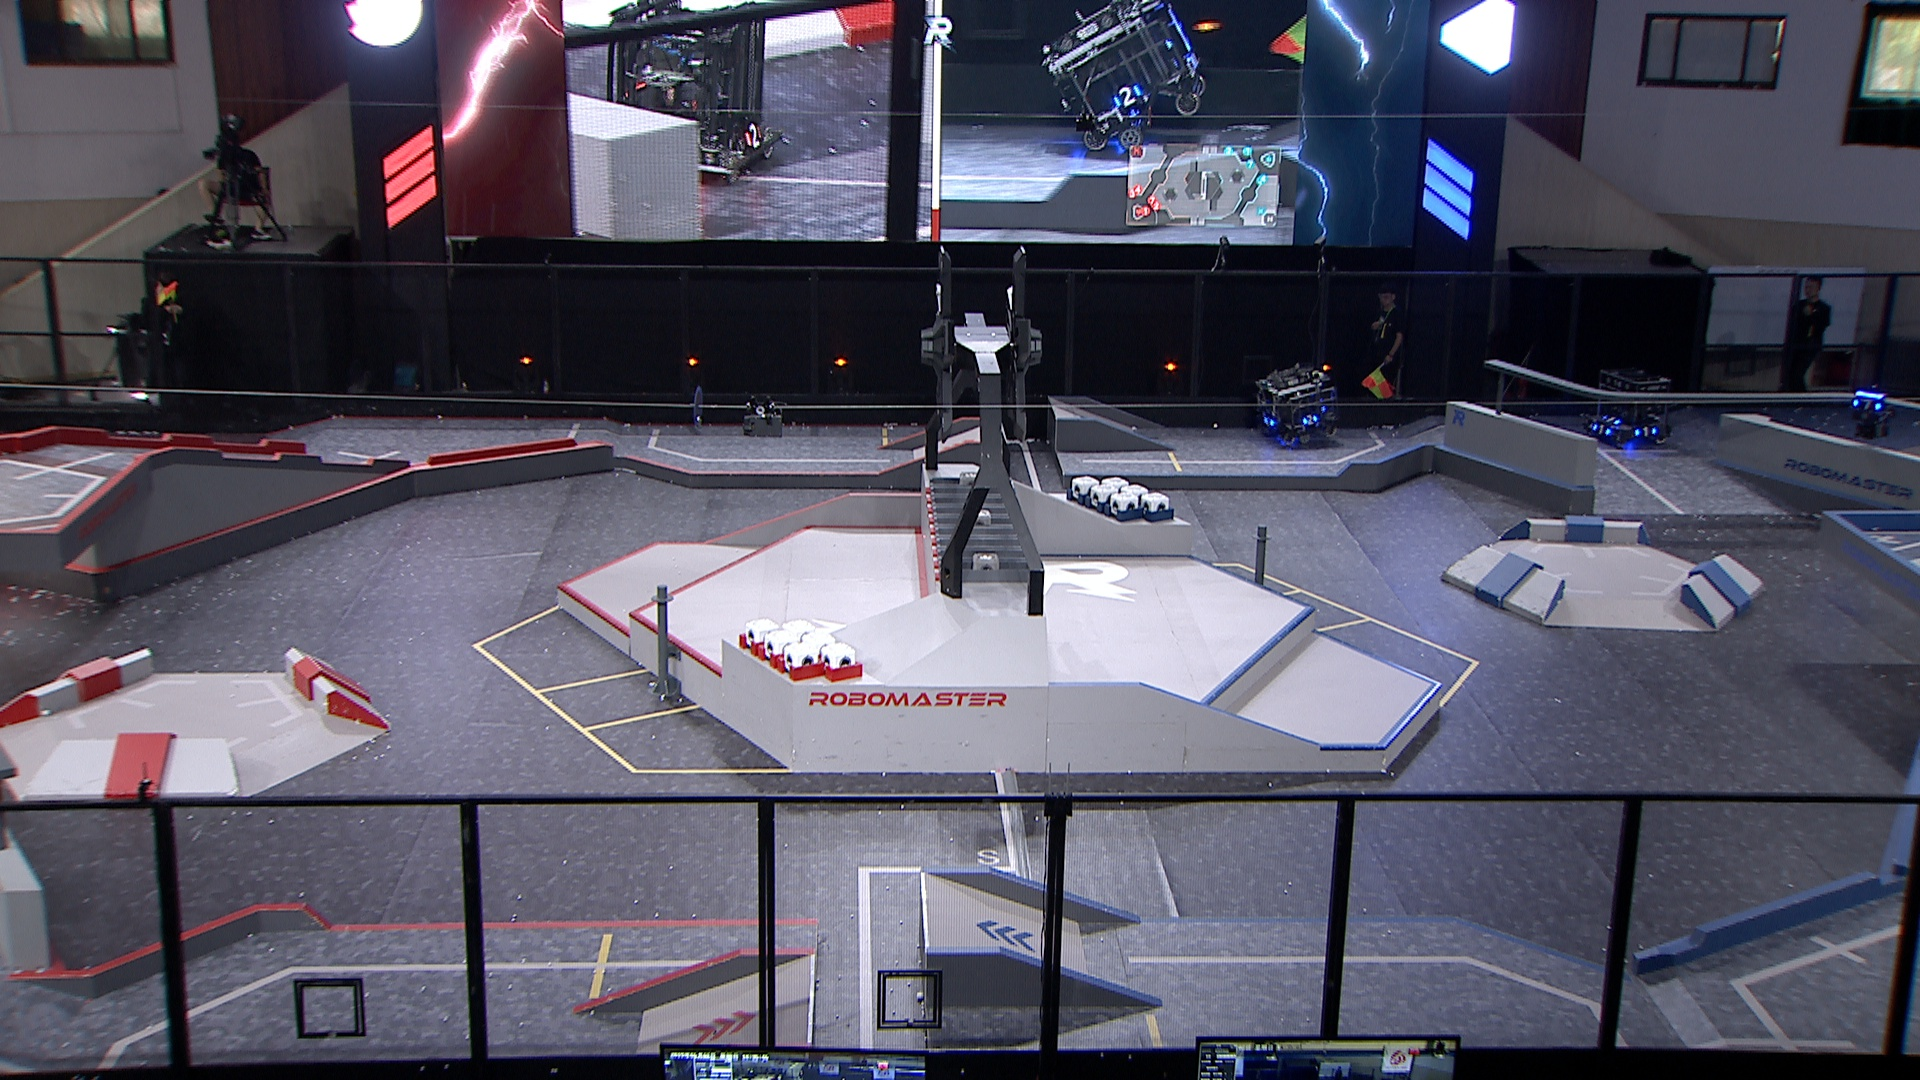armor: (1851, 400, 1884, 413), (1634, 425, 1656, 439), (1261, 413, 1276, 429), (1300, 411, 1315, 427), (1592, 425, 1607, 436), (1604, 414, 1621, 425)
car: (1586, 368, 1681, 447), (1254, 361, 1342, 446)
ignore: (596, 1, 778, 185)
watcher: (1846, 384, 1898, 442)
